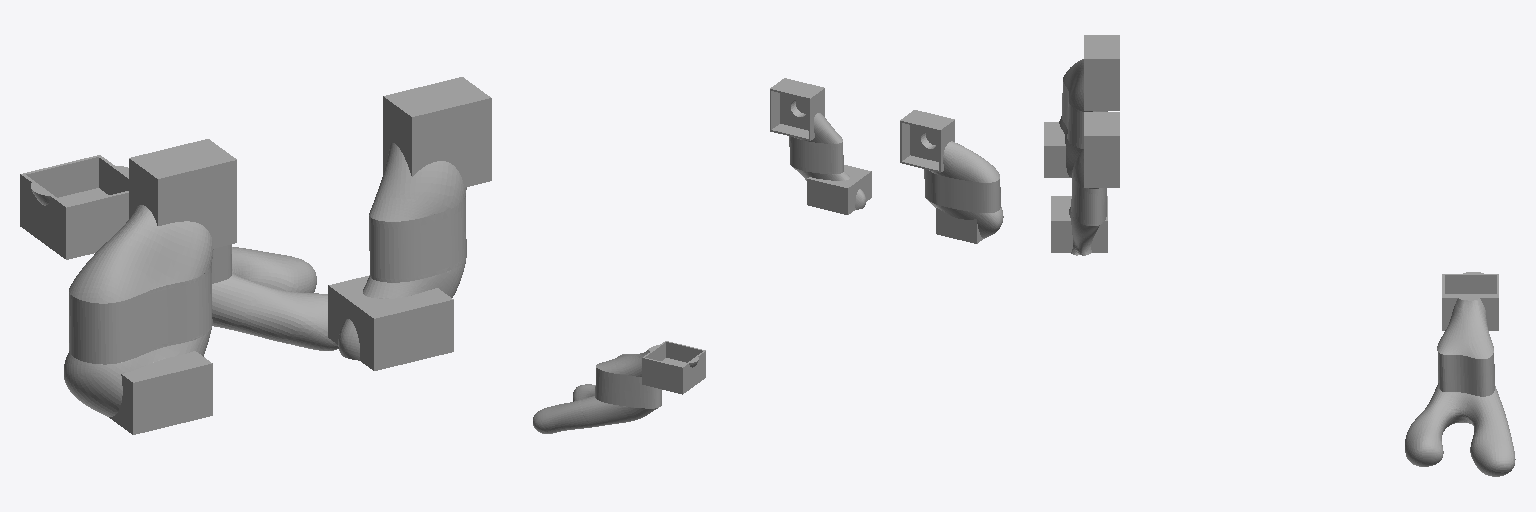
The robot description file, URDF, robot "FrogBot3_top-FrogBot3-y-7_bottom-FrogBot3-y-7":
<?xml version="1.0" ?>
<robot name="FrogBot3_top-FrogBot3-y-7_bottom-FrogBot3-y-7">

<material name="pla_5_percent_infill">
  <color rgba="0.700 0.700 0.700 1.000"/>
</material>

<link name="base_link">
  <inertial>
    <origin xyz="0 0 0" rpy="0 0 0"/>
    <mass value="1.5419899792307459"/>
    <inertia ixx="0.0054836076661745285" iyy="0.013703915460827342" izz="0.013742849788882953" ixy="5.961000823851627e-05" iyz="4.9944941207841843e-05" ixz="-0.0023657822822012154"/>
  </inertial>
  <visual>
    <origin xyz="0 0 0" rpy="0 0 0"/>
    <geometry>
      <mesh filename="simple_meshes/base_link.stl" scale="0.001 0.001 0.001"/>
    </geometry>
    <material name="pla_5_percent_infill"/>
  </visual>
  <collision>
    <origin xyz="0 0 0" rpy="0 0 0"/>
    <geometry>
      <mesh filename="simple_meshes/base_link.stl" scale="0.001 0.001 0.001"/>
    </geometry>
  </collision>
</link>

<link name="body_1_0_1">
  <inertial>
    <origin xyz="-0.065859 -0.113451 -0.001976" rpy="0 0 0"/>
    <mass value="0.053043539838088835"/>
    <inertia ixx="5.834657571515429e-05" iyy="7.60208831396793e-05" izz="2.9803621428430103e-05" ixy="3.6962868672218443e-06" iyz="5.106379882816828e-06" ixz="-1.9361967423098885e-05"/>
  </inertial>
  <visual>
    <origin xyz="-0.065859 -0.113451 -0.001976" rpy="0 0 0"/>
    <geometry>
      <mesh filename="simple_meshes/body_1_0_1.stl" scale="0.001 0.001 0.001"/>
    </geometry>
    <material name="pla_5_percent_infill"/>
  </visual>
  <collision>
    <origin xyz="-0.065859 -0.113451 -0.001976" rpy="0 0 0"/>
    <geometry>
      <mesh filename="simple_meshes/body_1_0_1.stl" scale="0.001 0.001 0.001"/>
    </geometry>
  </collision>
</link>

<link name="body_1_1_1">
  <inertial>
    <origin xyz="0.083929 -0.113451 -0.010696" rpy="0 0 0"/>
    <mass value="0.08163357035082353"/>
    <inertia ixx="8.681990665729018e-05" iyy="0.0001335801403838724" izz="6.62743933373326e-05" ixy="6.920414225631546e-06" iyz="1.2702337247609248e-05" ixz="-3.258225568088377e-05"/>
  </inertial>
  <visual>
    <origin xyz="0.083929 -0.113451 -0.010696" rpy="0 0 0"/>
    <geometry>
      <mesh filename="simple_meshes/body_1_1_1.stl" scale="0.001 0.001 0.001"/>
    </geometry>
    <material name="pla_5_percent_infill"/>
  </visual>
  <collision>
    <origin xyz="0.083929 -0.113451 -0.010696" rpy="0 0 0"/>
    <geometry>
      <mesh filename="simple_meshes/body_1_1_1.stl" scale="0.001 0.001 0.001"/>
    </geometry>
  </collision>
</link>

<link name="body_1_2_1">
  <inertial>
    <origin xyz="-0.060736 0.113451 -0.005366" rpy="0 0 0"/>
    <mass value="0.0551399017394902"/>
    <inertia ixx="6.389904788591232e-05" iyy="8.02455428964743e-05" izz="2.9431030167596187e-05" ixy="-3.73410482462427e-06" iyz="-7.290346298248127e-06" ixz="-2.019227629638238e-05"/>
  </inertial>
  <visual>
    <origin xyz="-0.060736 0.113451 -0.005366" rpy="0 0 0"/>
    <geometry>
      <mesh filename="simple_meshes/body_1_2_1.stl" scale="0.001 0.001 0.001"/>
    </geometry>
    <material name="pla_5_percent_infill"/>
  </visual>
  <collision>
    <origin xyz="-0.060736 0.113451 -0.005366" rpy="0 0 0"/>
    <geometry>
      <mesh filename="simple_meshes/body_1_2_1.stl" scale="0.001 0.001 0.001"/>
    </geometry>
  </collision>
</link>

<link name="body_1_3_1">
  <inertial>
    <origin xyz="0.093982 0.113451 -0.005431" rpy="0 0 0"/>
    <mass value="0.08428276197481548"/>
    <inertia ixx="8.141265736494926e-05" iyy="0.00011973094756723775" izz="6.0239848588764053e-05" ixy="-5.25905953968858e-06" iyz="-1.1417555271655048e-05" ixz="-2.4118533207564312e-05"/>
  </inertial>
  <visual>
    <origin xyz="0.093982 0.113451 -0.005431" rpy="0 0 0"/>
    <geometry>
      <mesh filename="simple_meshes/body_1_3_1.stl" scale="0.001 0.001 0.001"/>
    </geometry>
    <material name="pla_5_percent_infill"/>
  </visual>
  <collision>
    <origin xyz="0.093982 0.113451 -0.005431" rpy="0 0 0"/>
    <geometry>
      <mesh filename="simple_meshes/body_1_3_1.stl" scale="0.001 0.001 0.001"/>
    </geometry>
  </collision>
</link>

<link name="body_2_0_1">
  <inertial>
    <origin xyz="-0.026166 -0.164707 0.117895" rpy="0 0 0"/>
    <mass value="0.11190820490946587"/>
    <inertia ixx="0.00012589042713074313" iyy="0.00025382901380705414" izz="0.00020942113111735786" ixy="3.331543489290111e-06" iyz="-4.723020091989584e-06" ixz="9.667724539771461e-05"/>
  </inertial>
  <visual>
    <origin xyz="-0.026166 -0.164707 0.117895" rpy="0 0 0"/>
    <geometry>
      <mesh filename="simple_meshes/body_2_0_1.stl" scale="0.001 0.001 0.001"/>
    </geometry>
    <material name="pla_5_percent_infill"/>
  </visual>
  <collision>
    <origin xyz="-0.026166 -0.164707 0.117895" rpy="0 0 0"/>
    <geometry>
      <mesh filename="simple_meshes/body_2_0_1.stl" scale="0.001 0.001 0.001"/>
    </geometry>
  </collision>
</link>

<link name="body_2_1_1">
  <inertial>
    <origin xyz="0.127747 -0.174737 0.117895" rpy="0 0 0"/>
    <mass value="0.08960212789743961"/>
    <inertia ixx="8.891329605105382e-05" iyy="0.00014025876663105279" izz="0.00010855875241271408" ixy="-1.0145042956828448e-05" iyz="5.1235832660293315e-06" ixz="5.325952804987135e-05"/>
  </inertial>
  <visual>
    <origin xyz="0.127747 -0.174737 0.117895" rpy="0 0 0"/>
    <geometry>
      <mesh filename="simple_meshes/body_2_1_1.stl" scale="0.001 0.001 0.001"/>
    </geometry>
    <material name="pla_5_percent_infill"/>
  </visual>
  <collision>
    <origin xyz="0.127747 -0.174737 0.117895" rpy="0 0 0"/>
    <geometry>
      <mesh filename="simple_meshes/body_2_1_1.stl" scale="0.001 0.001 0.001"/>
    </geometry>
  </collision>
</link>

<link name="body_2_2_1">
  <inertial>
    <origin xyz="-0.021708 0.167525 0.117895" rpy="0 0 0"/>
    <mass value="0.11001885322263921"/>
    <inertia ixx="0.00012372221621220238" iyy="0.00024941794825987344" izz="0.00020478018949346855" ixy="2.7792629711666066e-06" iyz="-2.0459518643776813e-06" ixz="9.552628841716219e-05"/>
  </inertial>
  <visual>
    <origin xyz="-0.021708 0.167525 0.117895" rpy="0 0 0"/>
    <geometry>
      <mesh filename="simple_meshes/body_2_2_1.stl" scale="0.001 0.001 0.001"/>
    </geometry>
    <material name="pla_5_percent_infill"/>
  </visual>
  <collision>
    <origin xyz="-0.021708 0.167525 0.117895" rpy="0 0 0"/>
    <geometry>
      <mesh filename="simple_meshes/body_2_2_1.stl" scale="0.001 0.001 0.001"/>
    </geometry>
  </collision>
</link>

<link name="body_2_3_1">
  <inertial>
    <origin xyz="0.128136 0.172985 0.117895" rpy="0 0 0"/>
    <mass value="0.08493565636271648"/>
    <inertia ixx="8.812936748404249e-05" iyy="0.0001311382465969159" izz="0.00010574016759361737" ixy="8.329588790313442e-06" iyz="-6.529025132335359e-06" ixz="4.863055196792582e-05"/>
  </inertial>
  <visual>
    <origin xyz="0.128136 0.172985 0.117895" rpy="0 0 0"/>
    <geometry>
      <mesh filename="simple_meshes/body_2_3_1.stl" scale="0.001 0.001 0.001"/>
    </geometry>
    <material name="pla_5_percent_infill"/>
  </visual>
  <collision>
    <origin xyz="0.128136 0.172985 0.117895" rpy="0 0 0"/>
    <geometry>
      <mesh filename="simple_meshes/body_2_3_1.stl" scale="0.001 0.001 0.001"/>
    </geometry>
  </collision>
</link>

<joint name="joint_1_0" type="revolute">
  <origin xyz="0.065859 0.113451 0.001976" rpy="0 0 0"/>
  <parent link="base_link"/>
  <child link="body_1_0_1"/>
  <axis xyz="0.0 0.0 -1.0"/>
  <limit upper="1.2" lower="-1.2" effort="3.8" velocity="5.4"/>
</joint>
<transmission name="joint_1_0_tran">
  <type>transmission_interface/SimpleTransmission</type>
  <joint name="joint_1_0">
    <hardwareInterface>PositionJointInterface</hardwareInterface>
  </joint>
  <actuator name="joint_1_0_actr">
    <hardwareInterface>PositionJointInterface</hardwareInterface>
    <mechanicalReduction>1</mechanicalReduction>
  </actuator>
</transmission>

<joint name="joint_1_1" type="revolute">
  <origin xyz="-0.083929 0.113451 0.010696" rpy="0 0 0"/>
  <parent link="base_link"/>
  <child link="body_1_1_1"/>
  <axis xyz="0.0 0.0 -1.0"/>
  <limit upper="1.2" lower="-1.2" effort="3.8" velocity="5.4"/>
</joint>
<transmission name="joint_1_1_tran">
  <type>transmission_interface/SimpleTransmission</type>
  <joint name="joint_1_1">
    <hardwareInterface>PositionJointInterface</hardwareInterface>
  </joint>
  <actuator name="joint_1_1_actr">
    <hardwareInterface>PositionJointInterface</hardwareInterface>
    <mechanicalReduction>1</mechanicalReduction>
  </actuator>
</transmission>

<joint name="joint_1_2" type="revolute">
  <origin xyz="0.060736 -0.113451 0.005366" rpy="0 0 0"/>
  <parent link="base_link"/>
  <child link="body_1_2_1"/>
  <axis xyz="0.0 0.0 -1.0"/>
  <limit upper="1.2" lower="-1.2" effort="3.8" velocity="5.4"/>
</joint>
<transmission name="joint_1_2_tran">
  <type>transmission_interface/SimpleTransmission</type>
  <joint name="joint_1_2">
    <hardwareInterface>PositionJointInterface</hardwareInterface>
  </joint>
  <actuator name="joint_1_2_actr">
    <hardwareInterface>PositionJointInterface</hardwareInterface>
    <mechanicalReduction>1</mechanicalReduction>
  </actuator>
</transmission>

<joint name="joint_1_3" type="revolute">
  <origin xyz="-0.093982 -0.113451 0.005431" rpy="0 0 0"/>
  <parent link="base_link"/>
  <child link="body_1_3_1"/>
  <axis xyz="0.0 0.0 -1.0"/>
  <limit upper="1.2" lower="-1.2" effort="3.8" velocity="5.4"/>
</joint>
<transmission name="joint_1_3_tran">
  <type>transmission_interface/SimpleTransmission</type>
  <joint name="joint_1_3">
    <hardwareInterface>PositionJointInterface</hardwareInterface>
  </joint>
  <actuator name="joint_1_3_actr">
    <hardwareInterface>PositionJointInterface</hardwareInterface>
    <mechanicalReduction>1</mechanicalReduction>
  </actuator>
</transmission>

<joint name="joint_2_0" type="revolute">
  <origin xyz="-0.039693 0.051256 -0.119871" rpy="0 0 0"/>
  <parent link="body_1_0_1"/>
  <child link="body_2_0_1"/>
  <axis xyz="0.0 1.0 0.0"/>
  <limit upper="1.2" lower="-1.2" effort="3.8" velocity="5.4"/>
</joint>
<transmission name="joint_2_0_tran">
  <type>transmission_interface/SimpleTransmission</type>
  <joint name="joint_2_0">
    <hardwareInterface>PositionJointInterface</hardwareInterface>
  </joint>
  <actuator name="joint_2_0_actr">
    <hardwareInterface>PositionJointInterface</hardwareInterface>
    <mechanicalReduction>1</mechanicalReduction>
  </actuator>
</transmission>

<joint name="joint_2_1" type="revolute">
  <origin xyz="-0.043818 0.061286 -0.128591" rpy="0 0 0"/>
  <parent link="body_1_1_1"/>
  <child link="body_2_1_1"/>
  <axis xyz="0.0 1.0 0.0"/>
  <limit upper="1.2" lower="-1.2" effort="3.8" velocity="5.4"/>
</joint>
<transmission name="joint_2_1_tran">
  <type>transmission_interface/SimpleTransmission</type>
  <joint name="joint_2_1">
    <hardwareInterface>PositionJointInterface</hardwareInterface>
  </joint>
  <actuator name="joint_2_1_actr">
    <hardwareInterface>PositionJointInterface</hardwareInterface>
    <mechanicalReduction>1</mechanicalReduction>
  </actuator>
</transmission>

<joint name="joint_2_2" type="revolute">
  <origin xyz="-0.039028 -0.054074 -0.123261" rpy="0 0 0"/>
  <parent link="body_1_2_1"/>
  <child link="body_2_2_1"/>
  <axis xyz="0.0 1.0 0.0"/>
  <limit upper="1.2" lower="-1.2" effort="3.8" velocity="5.4"/>
</joint>
<transmission name="joint_2_2_tran">
  <type>transmission_interface/SimpleTransmission</type>
  <joint name="joint_2_2">
    <hardwareInterface>PositionJointInterface</hardwareInterface>
  </joint>
  <actuator name="joint_2_2_actr">
    <hardwareInterface>PositionJointInterface</hardwareInterface>
    <mechanicalReduction>1</mechanicalReduction>
  </actuator>
</transmission>

<joint name="joint_2_3" type="revolute">
  <origin xyz="-0.034154 -0.059534 -0.123326" rpy="0 0 0"/>
  <parent link="body_1_3_1"/>
  <child link="body_2_3_1"/>
  <axis xyz="0.0 1.0 0.0"/>
  <limit upper="1.2" lower="-1.2" effort="3.8" velocity="5.4"/>
</joint>
<transmission name="joint_2_3_tran">
  <type>transmission_interface/SimpleTransmission</type>
  <joint name="joint_2_3">
    <hardwareInterface>PositionJointInterface</hardwareInterface>
  </joint>
  <actuator name="joint_2_3_actr">
    <hardwareInterface>PositionJointInterface</hardwareInterface>
    <mechanicalReduction>1</mechanicalReduction>
  </actuator>
</transmission>

</robot>

--- Facts derived from the render (not from the file) ---
The picture shows the robot from 3 angles, left to right: view 1: azimuth 30°, elevation 25°; view 2: azimuth 150°, elevation 25°; view 3: azimuth 270°, elevation 25°; orthographic projection.
Robot: FrogBot3_top-FrogBot3-y-7_bottom-FrogBot3-y-7 — 9 links, 8 joints (8 revolute); root link base_link; default pose: all joints at 0.
Visible links, largest first — view 1: body_1_3_1, body_1_2_1, body_2_0_1; view 2: body_1_3_1, body_2_0_1, body_1_2_1; view 3: body_2_0_1, body_1_2_1, body_1_3_1.
Boxes of the visible links, x1,y1,x2,y2 form: body_1_3_1: (64,139,236,434); body_1_2_1: (328,77,491,370); body_2_0_1: (20,155,338,350); body_1_3_1: (900,110,1003,243); body_2_0_1: (533,341,705,433); body_1_2_1: (770,78,871,214); body_2_0_1: (1405,272,1515,476); body_1_2_1: (1051,112,1119,255); body_1_3_1: (1044,35,1119,177).
Size in the robot's own frame: 0.3525 by 0.3998 by 0.2805 metres.
3 mesh visuals loaded from 9 distinct referenced files (3 binary STL); not drawn: 6 (reference not matched to a file when rendering).